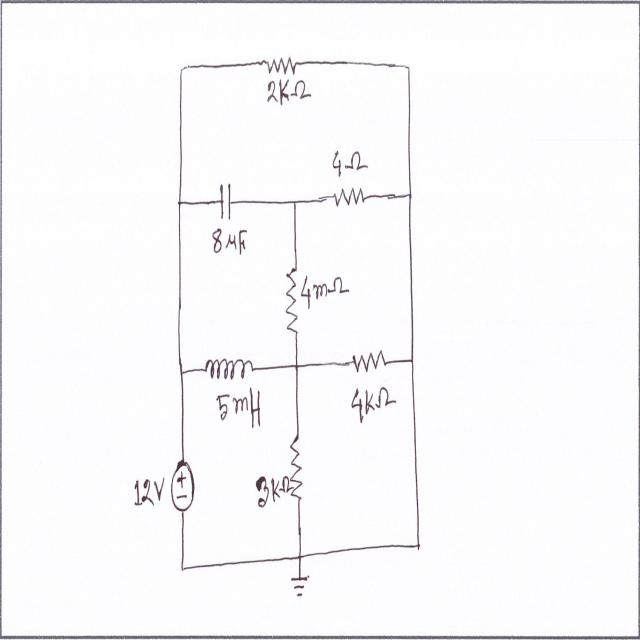capacitor: (216, 173, 236, 227)
ground: (288, 566, 314, 606)
inductor: (197, 350, 256, 383)
resistor: (282, 259, 302, 342), (342, 344, 392, 377), (287, 422, 306, 507), (327, 180, 373, 213), (255, 50, 304, 80)
voltage_source: (169, 453, 200, 519)
